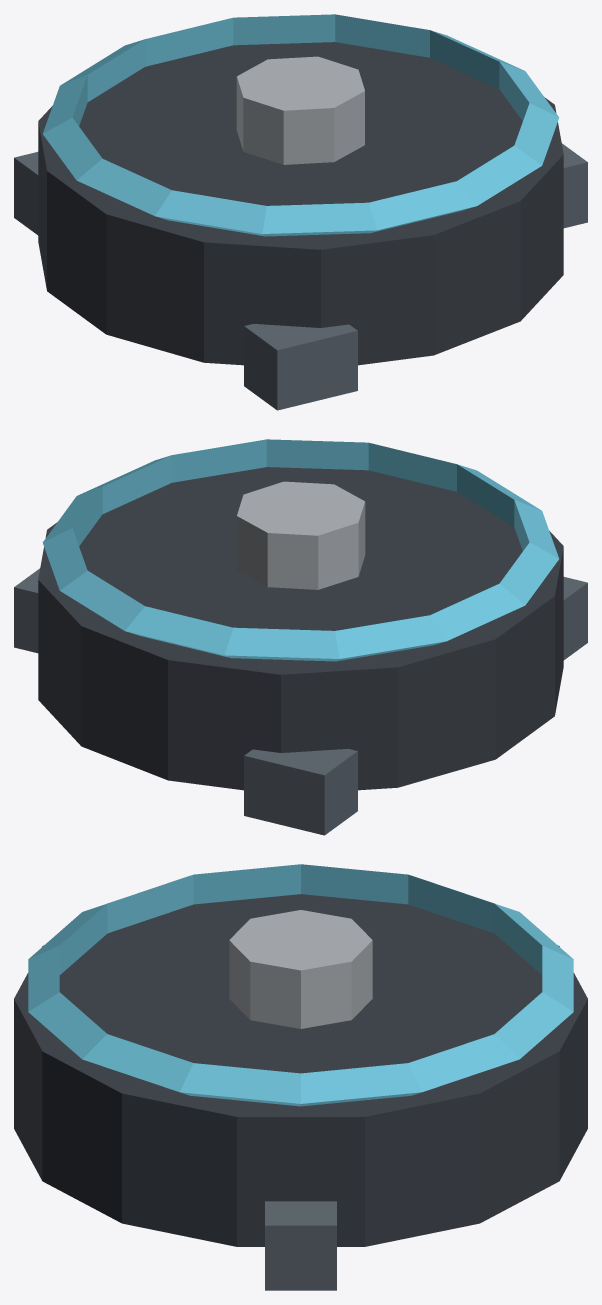
File: droid-repulsor-lifts-basic.glb
The picture shows the model from 3 angles, top to bottom: view 1: azimuth 30°, elevation 25°; view 2: azimuth 150°, elevation 25°; view 3: azimuth 270°, elevation 25°; orthographic projection. The views are drawn at different scales.
Visible parts, largest first — view 1: m; view 2: m; view 3: m.
Part boxes in pixels (bbox=[...]): m: bbox=[14, 14, 587, 410]; m: bbox=[14, 439, 587, 835]; m: bbox=[14, 864, 587, 1290].
Bounding box in the file's own units: 0.1 × 0.0372 × 0.093.
